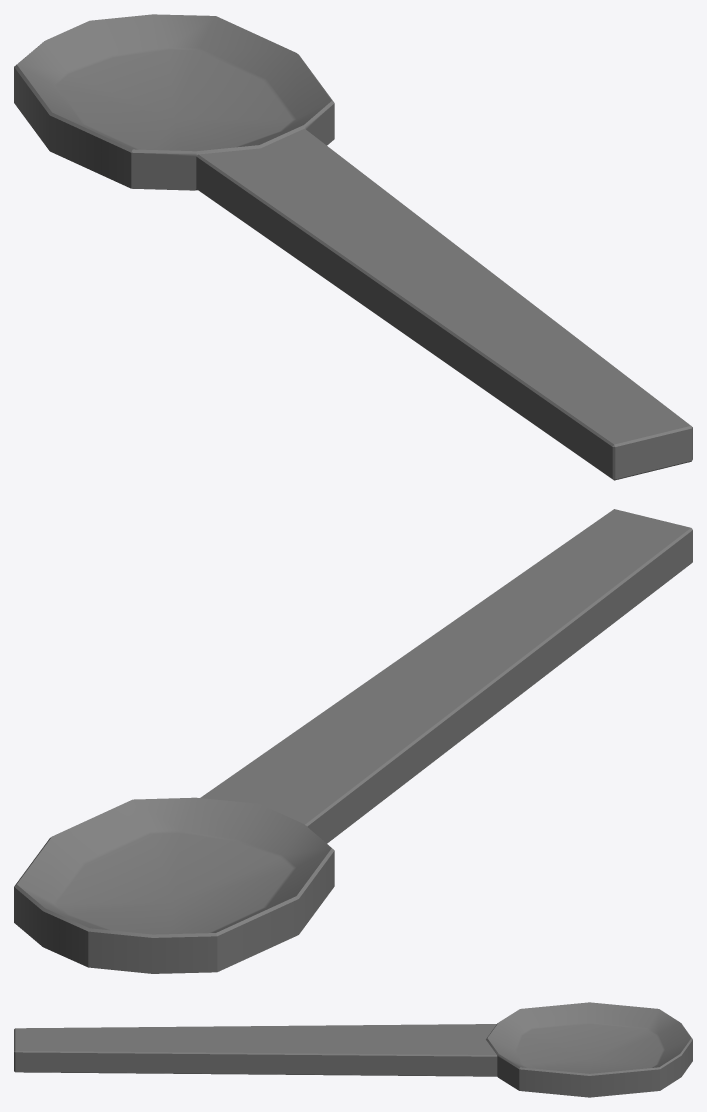
File: couillere_text (1).fbx
The picture shows the model from 3 angles, top to bottom: view 1: azimuth 30°, elevation 25°; view 2: azimuth 150°, elevation 25°; view 3: azimuth 270°, elevation 25°; orthographic projection. The views are drawn at different scales.
Visible parts, largest first — view 1: couillere; view 2: couillere; view 3: couillere.
Part boxes in pixels (<box>): couillere: <box>14,14,692,480</box>; couillere: <box>14,509,692,973</box>; couillere: <box>14,1002,692,1097</box>.
Size of the model in its own units: 4.37 by 0.9249 by 17.17.
Materials: 1 (1 with a texture image).
